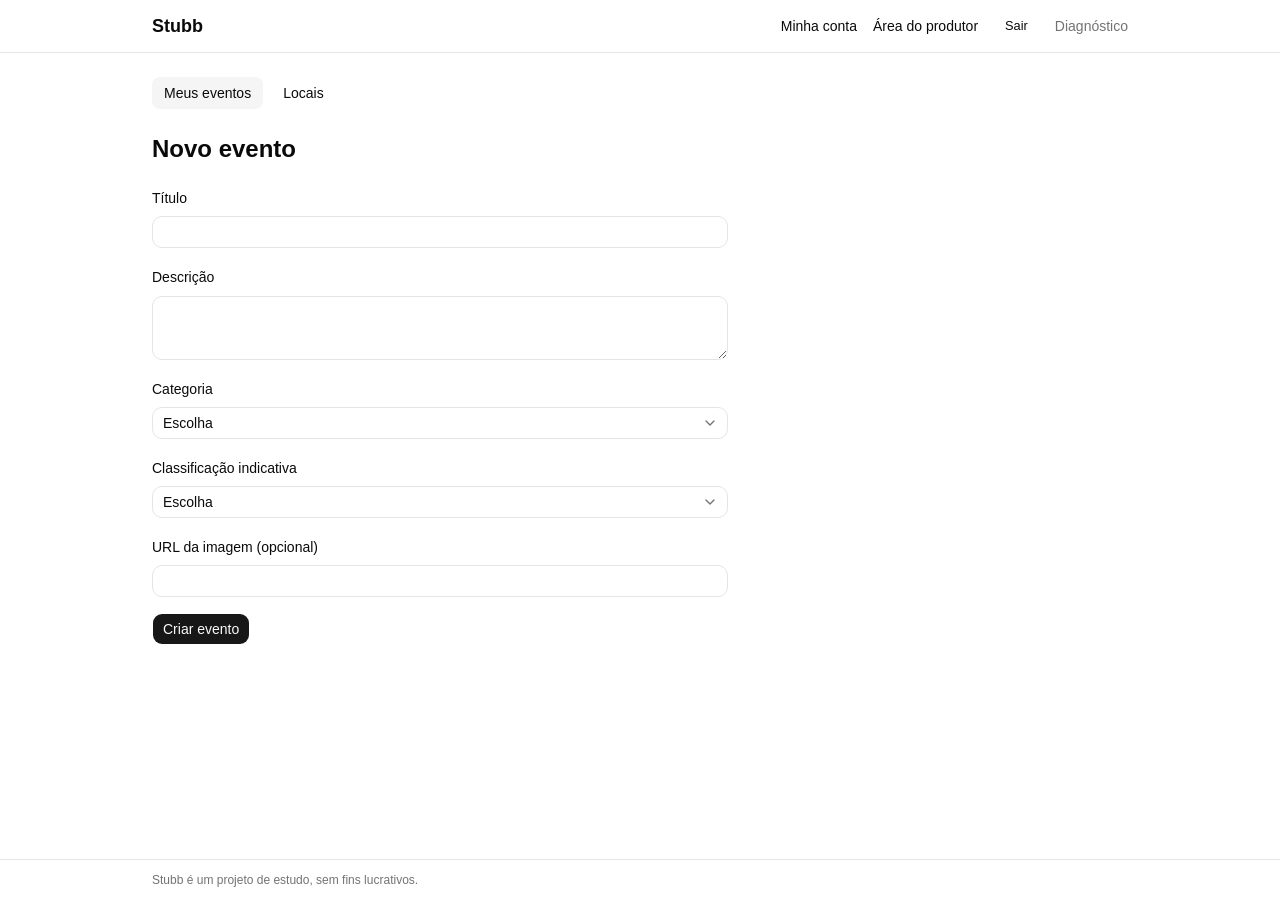
Test case: novo evento › formulário vazio: erros por campo com aria-invalid e foco no primeiro; URL http é recusada
Expected: the heading "Novo evento" is shown, top-left (152, 135), bottom-right (296, 162)
Type "http://x.com/a.png" into the field labelled "URL da imagem (opcional)". click: (440, 581)
box: top-left (152, 565), bottom-right (728, 597)
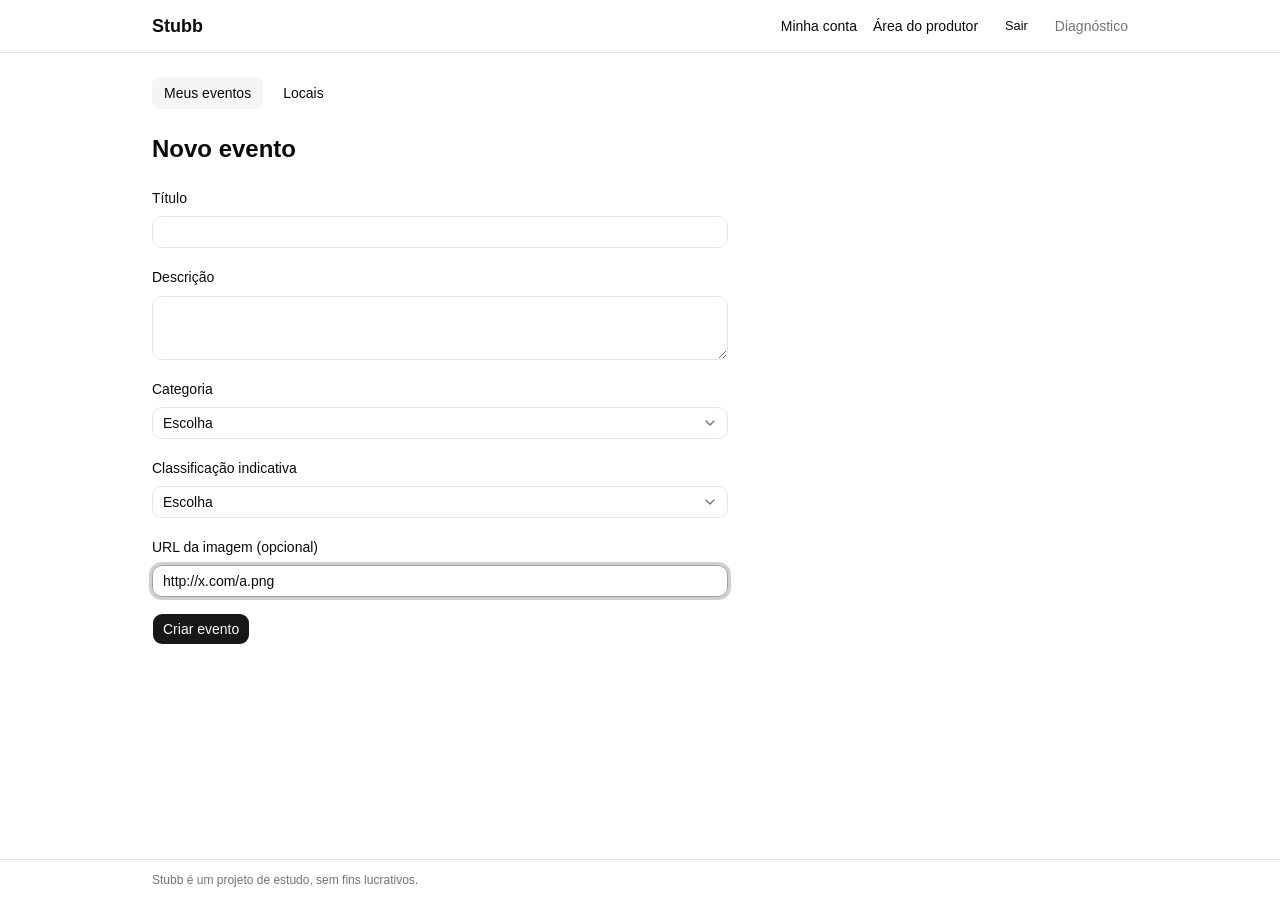
Click the button "Criar evento". click: click(201, 629)
box: top-left (152, 613), bottom-right (250, 645)
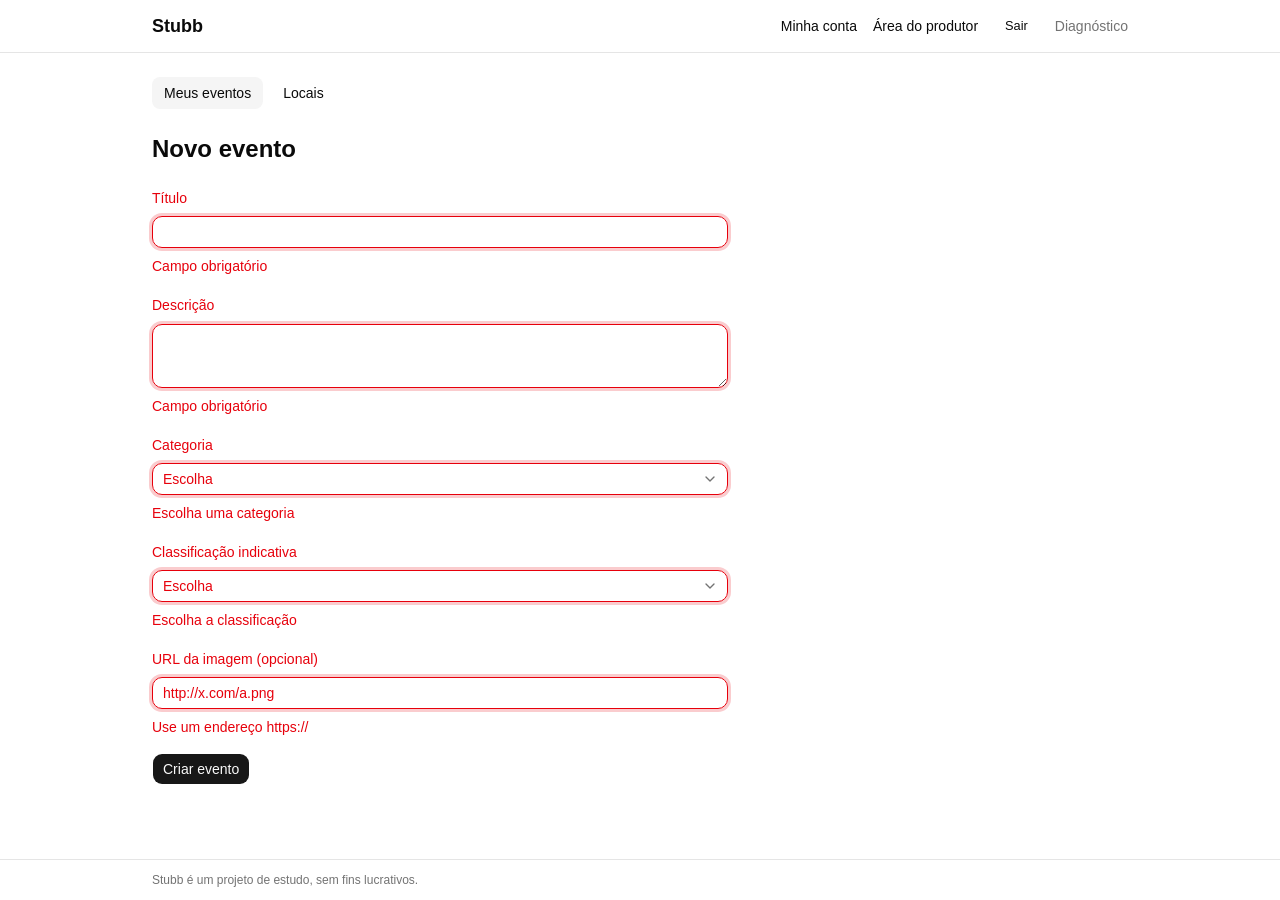
Result: the text "Escolha a classificação" is shown at top-left (152, 612), bottom-right (297, 628)
